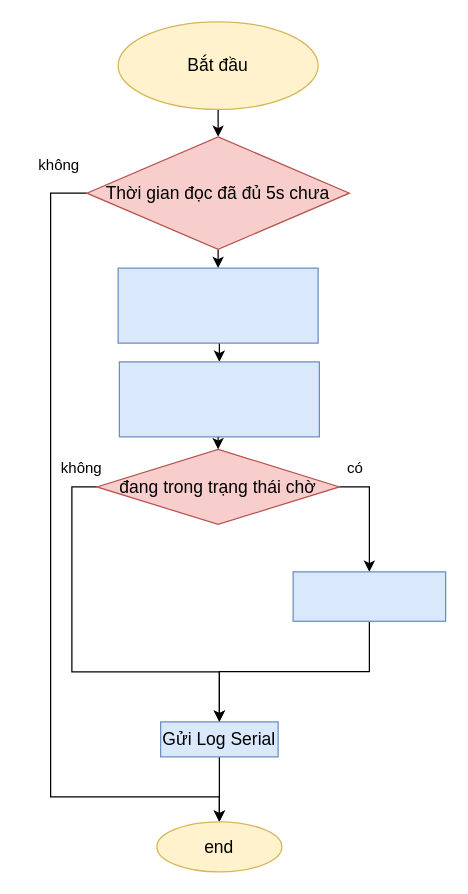
The diagram is 468 pixels wide and 894 high, and some of its shapes have lost their labels. The box of each missing label's shape, as (x1, y1, x2, y2) in pixels:
hiện thị LCD: (292, 571, 446, 621)
Lấy giá trị nhiệt độ và độ ẩm: (117, 267, 318, 343)
Đồng bộ Blink: (118, 361, 319, 437)
